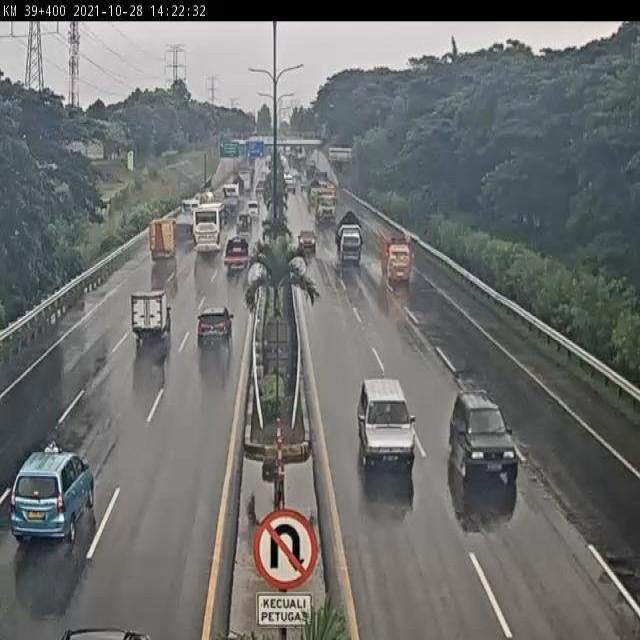bus-l-: (190, 202, 231, 255)
car: (444, 391, 520, 485), (360, 377, 413, 471), (132, 289, 174, 343), (199, 309, 231, 348), (296, 221, 317, 251)
truck-l-: (167, 196, 204, 232), (313, 184, 340, 225)
truck-s-: (382, 232, 414, 281), (336, 208, 363, 264), (223, 236, 251, 276), (148, 220, 174, 260)
